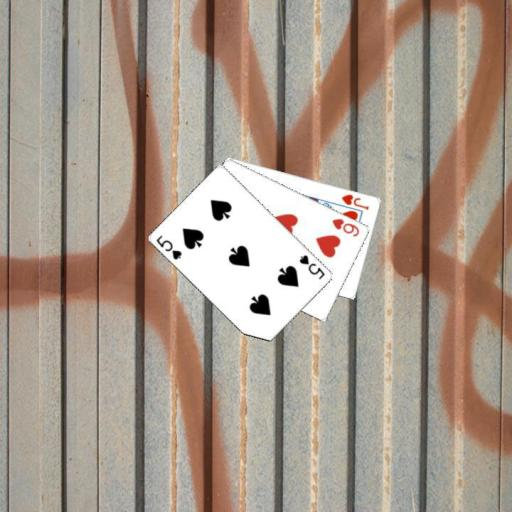5S: (154, 232, 184, 262), (297, 252, 327, 281)
6H: (329, 216, 361, 239)
JH: (339, 191, 371, 211)
